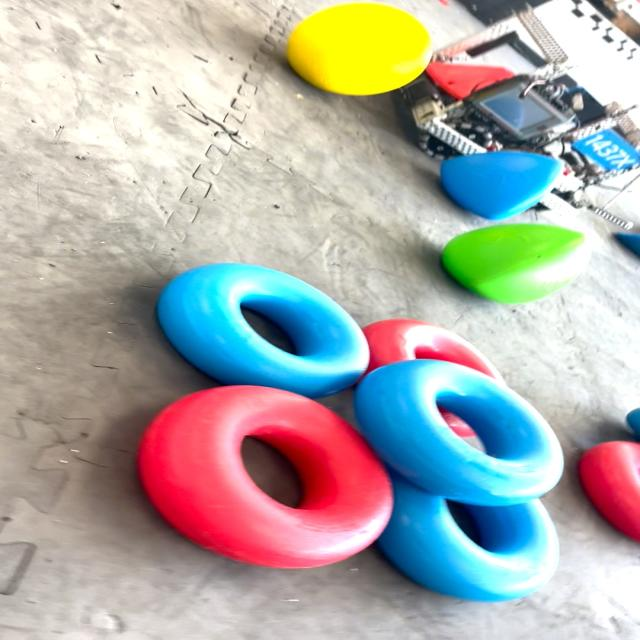Blue-Ring: (356, 359, 562, 506), (158, 262, 369, 398), (378, 470, 558, 601)
Red-Ring: (138, 385, 393, 569), (577, 441, 639, 545)
